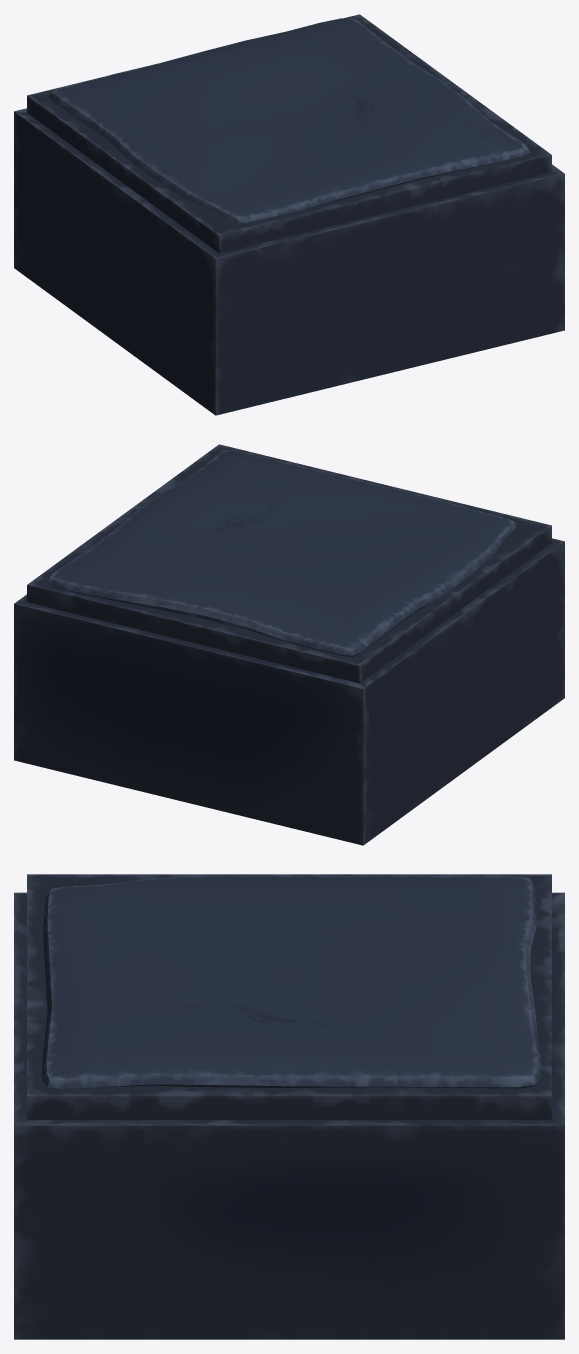
Rendered from Floor1-4.fbx.
3 views of the same model, one above another, from view 1: azimuth 30°, elevation 25°; view 2: azimuth 150°, elevation 25°; view 3: azimuth 270°, elevation 25° (orthographic). The views are drawn at different scales.
Visible parts, largest first — view 1: FloorTileB3; view 2: FloorTileB3; view 3: FloorTileB3.
Part boxes in pixels (x1,y1,x2,y2): FloorTileB3: (14, 14, 564, 415); FloorTileB3: (14, 444, 564, 845); FloorTileB3: (14, 874, 564, 1339).
Size of the model in its own units: 2.1 by 1.08 by 2.1.
